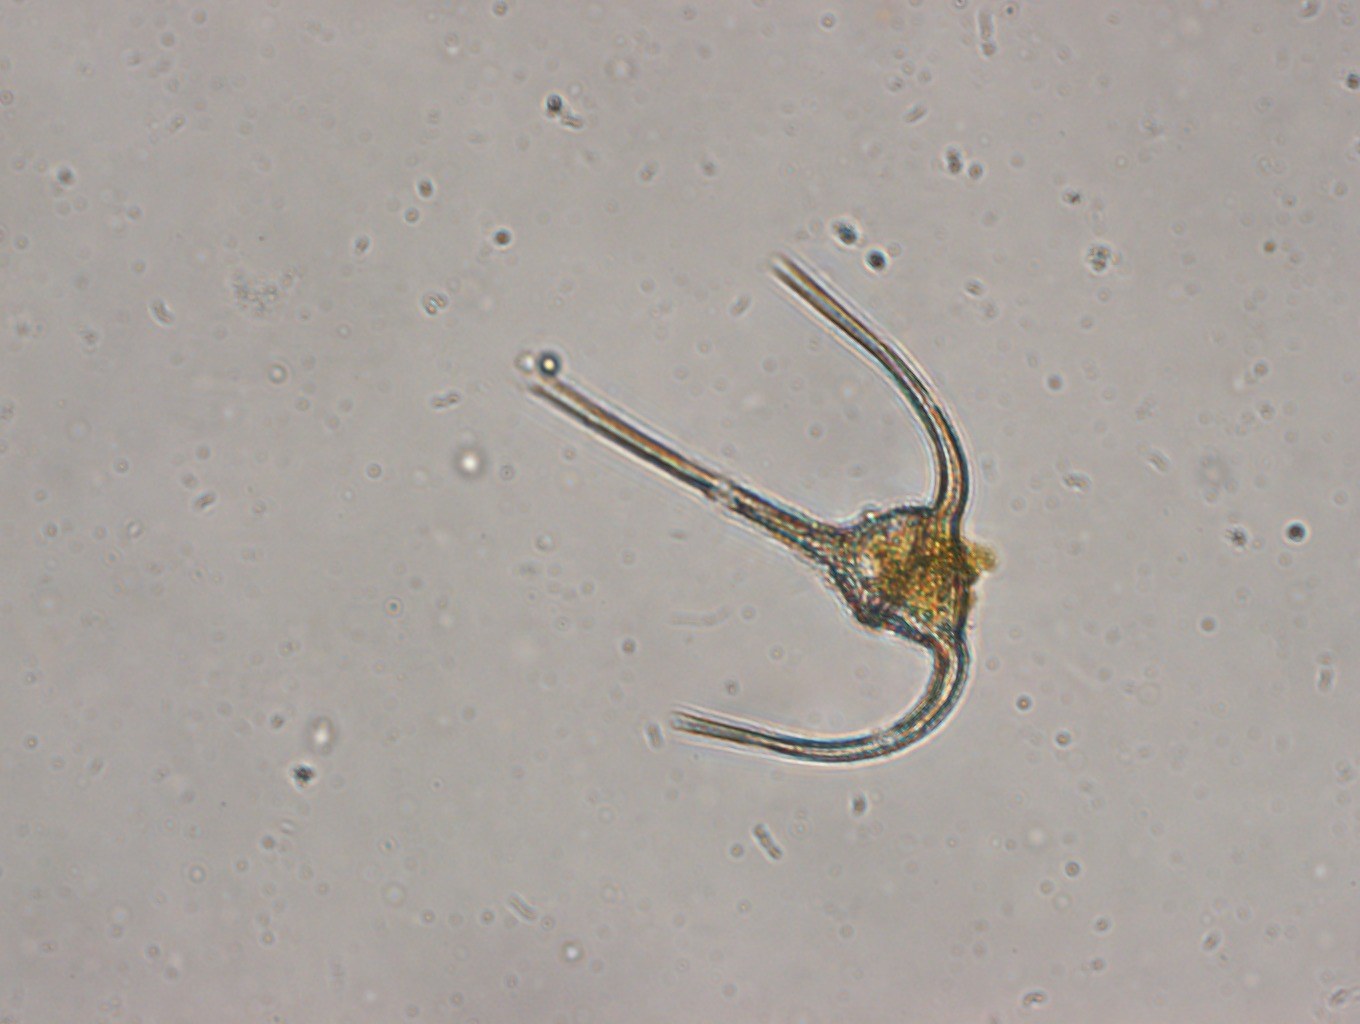ceratium trichoceros: (527, 236, 993, 772)
